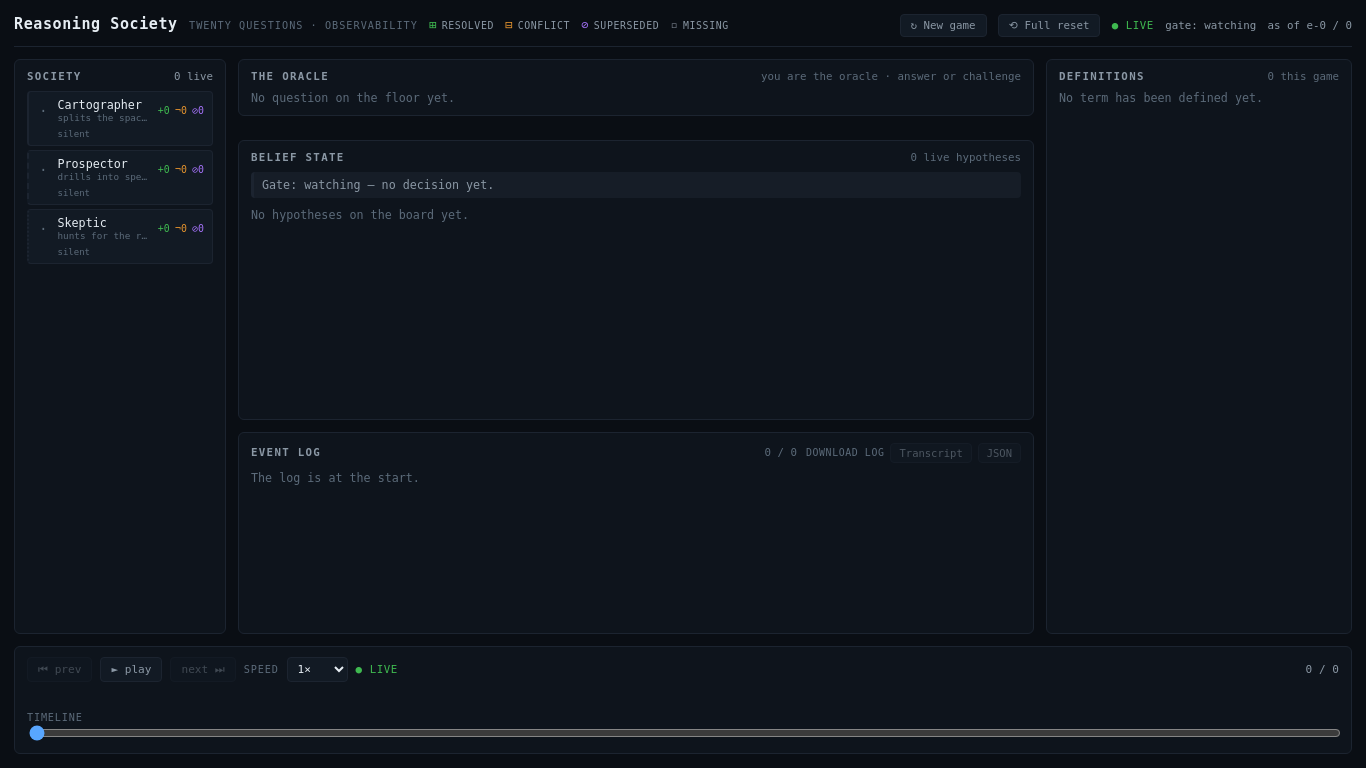
it: App (live backend) › a cancelled Full reset confirm posts nothing and re-disarms
Arm, then cancel — no reset is posted (the confirm gate held).
Click the button "⟲ Full reset".
click(1049, 26)  # box [998,14,1100,37]
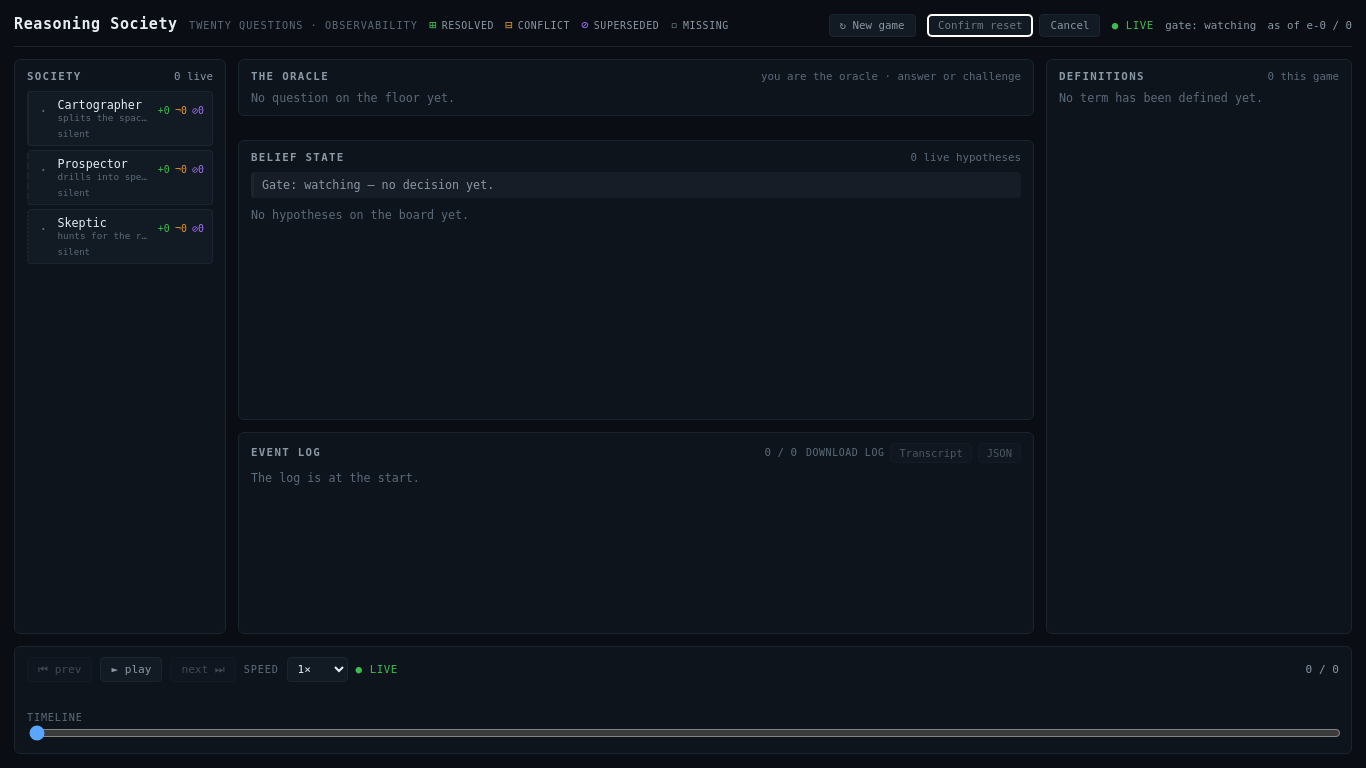
Click the button "Cancel".
click(1070, 26)  # box [1039,14,1100,37]
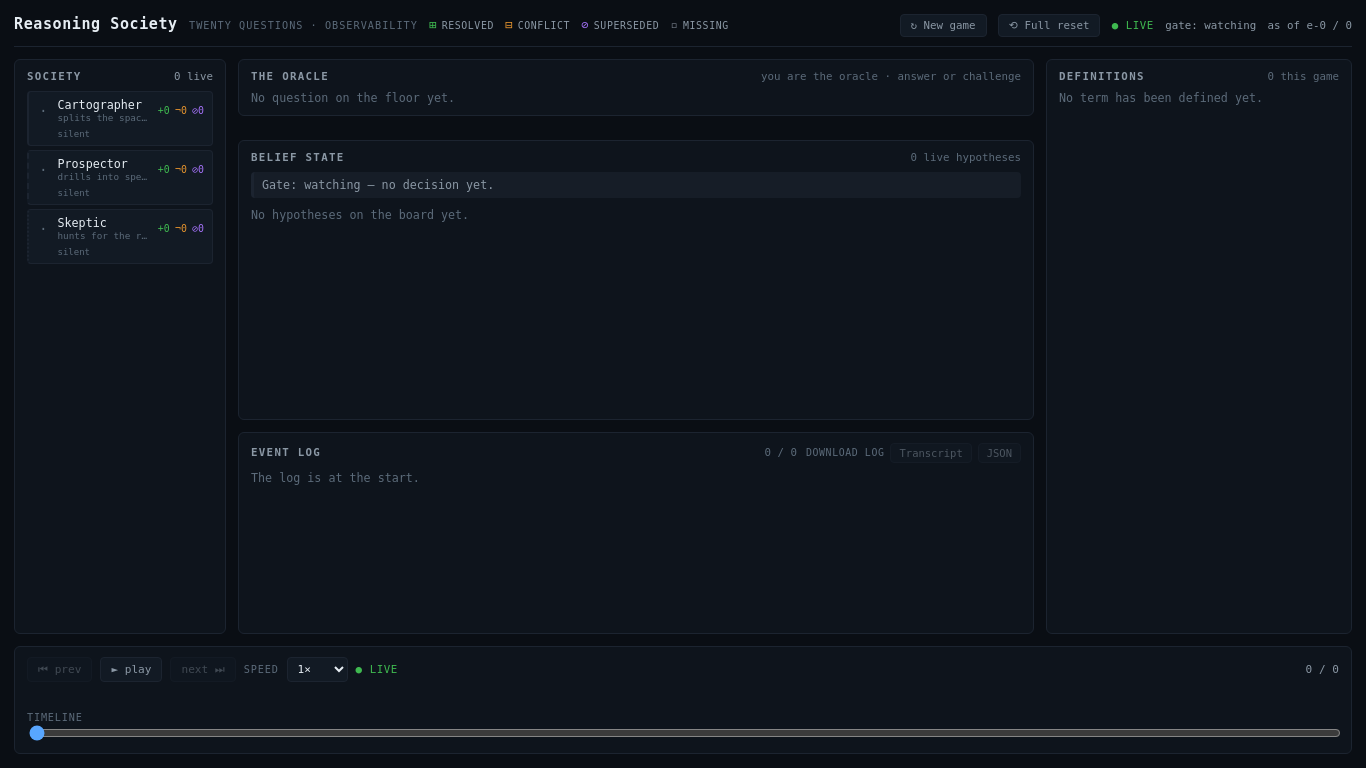
Result: the button "⟲ Full reset" is shown at [998,14,1100,37]
Result: the button "Confirm reset" is gone
